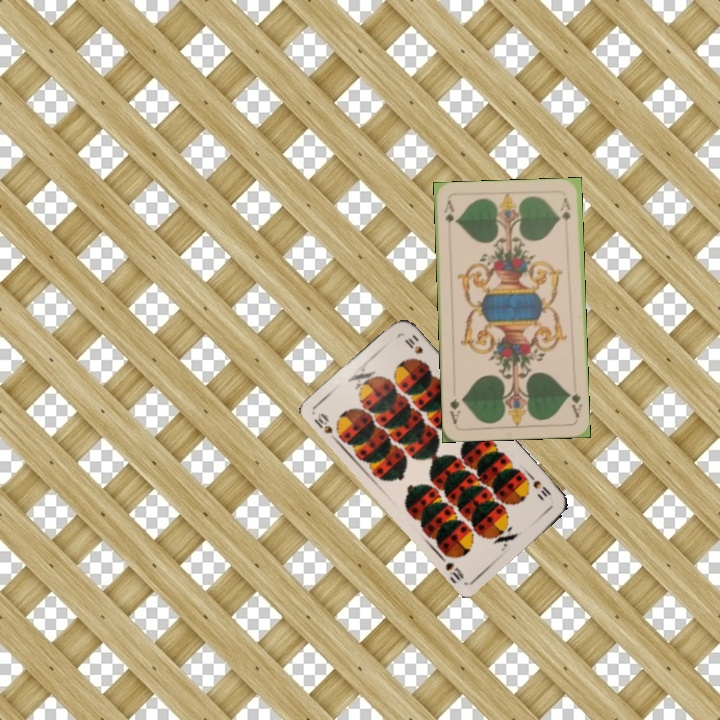GA: (440, 197, 457, 237), (565, 389, 585, 420)
S10: (310, 409, 340, 444), (525, 470, 554, 499)
